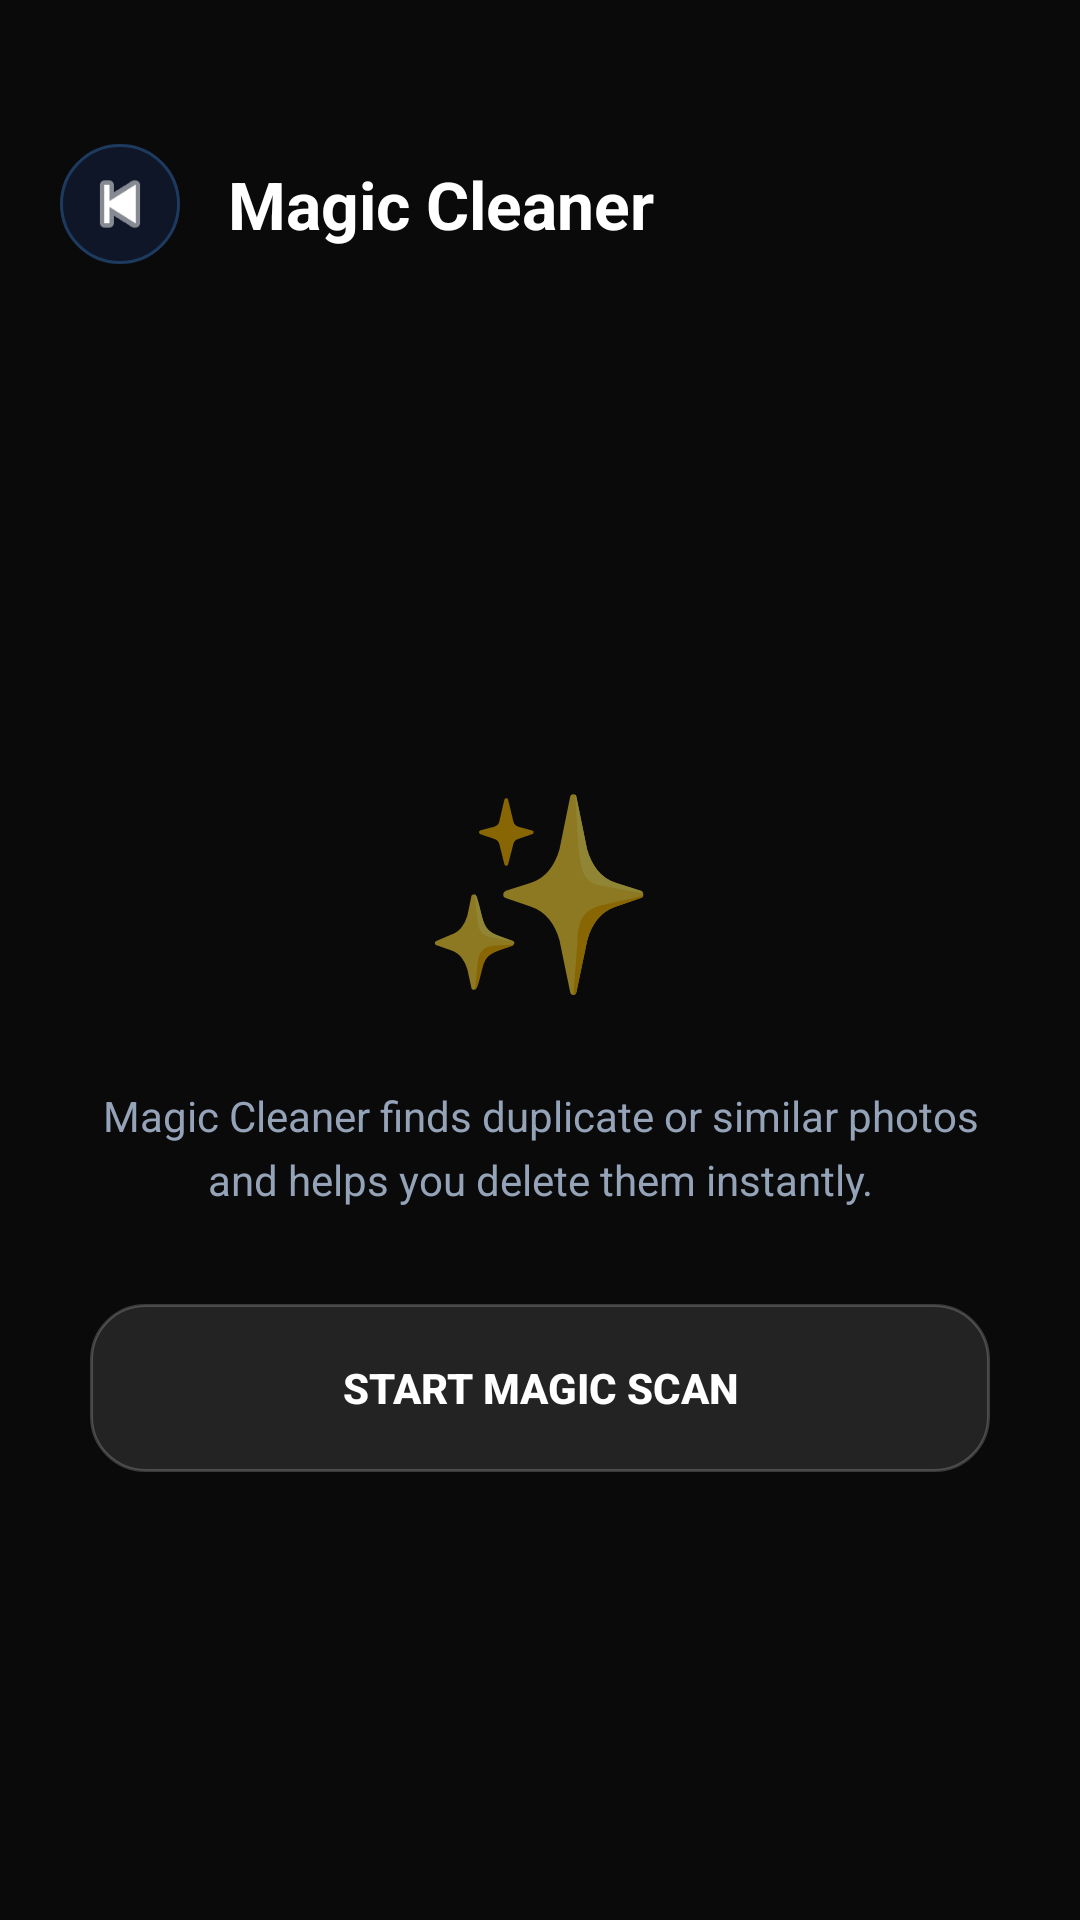

Screen size 1080x1920. Icon name, then its box in pixels as (left=x1, top=y1, right=x2, bottom=y2):
previous: (left=60, top=144, right=180, bottom=264)
